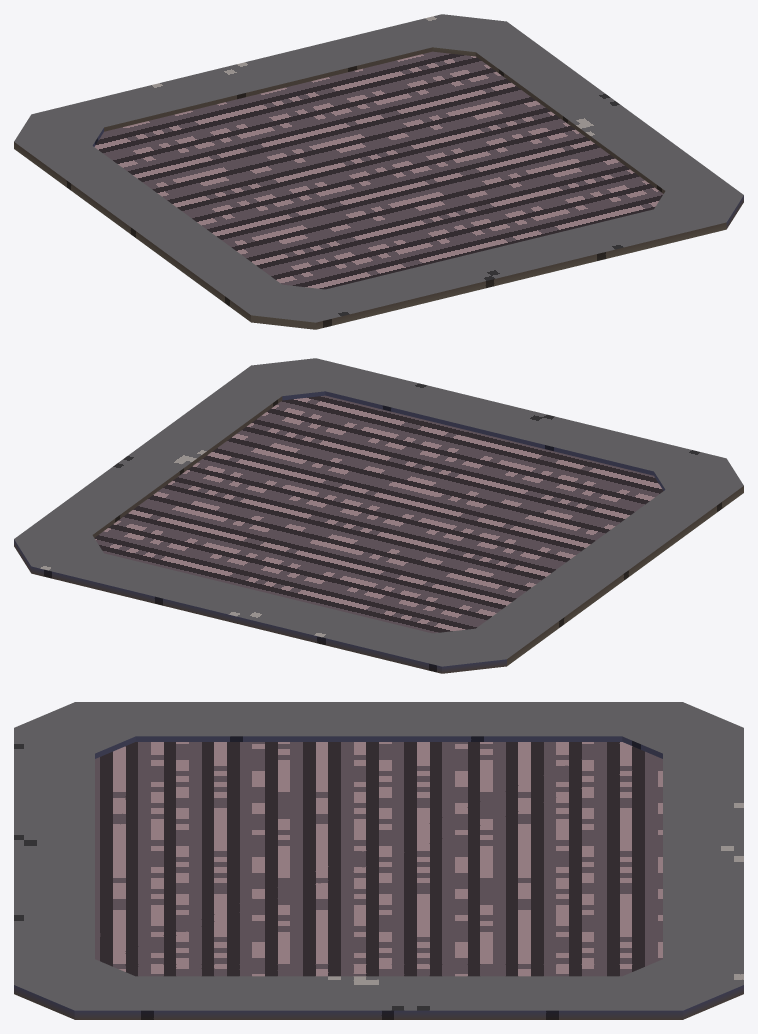
The model's file is stn.floor__grate.glb.
The picture shows the model from 3 angles, top to bottom: view 1: azimuth 30°, elevation 25°; view 2: azimuth 150°, elevation 25°; view 3: azimuth 270°, elevation 25°; orthographic projection. The views are drawn at different scales.
Visible parts, largest first — view 1: kit_grate, kit_frame; view 2: kit_grate, kit_frame; view 3: kit_grate, kit_frame.
Boxes of the visible parts, <box> form: kit_grate: <box>94,51,663,289</box>; kit_frame: <box>14,14,743,329</box>; kit_grate: <box>94,395,663,633</box>; kit_frame: <box>14,358,743,673</box>; kit_grate: <box>95,742,662,976</box>; kit_frame: <box>14,702,743,1019</box>.
Bounding box in the file's own units: 3.6 × 0.05 × 3.6.
2 materials, 2 textured.
